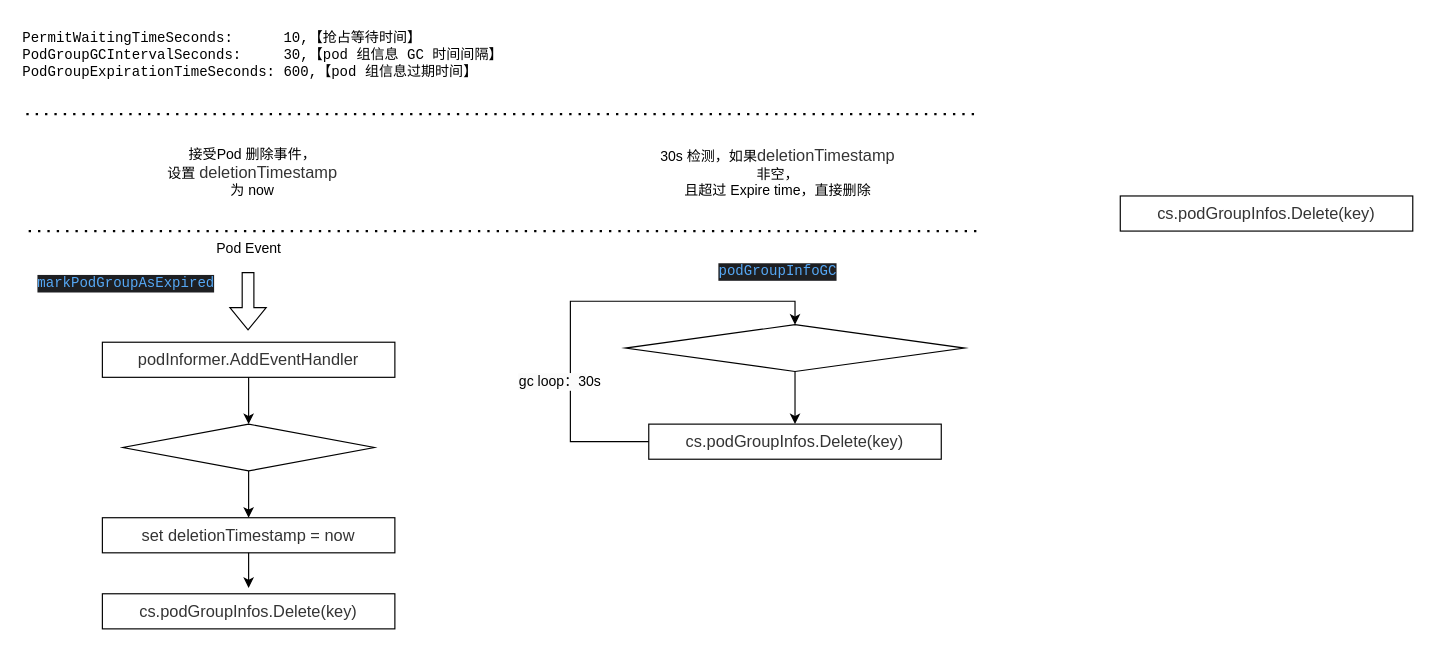
Image size: 1433x649. Some labels were removed from this diagram. The centre of each missing label's shape, as x and y in pixels:
deletionTIme + Expiration 600s < now: point (794, 347)
podGroup? Del ?: point (248, 447)
